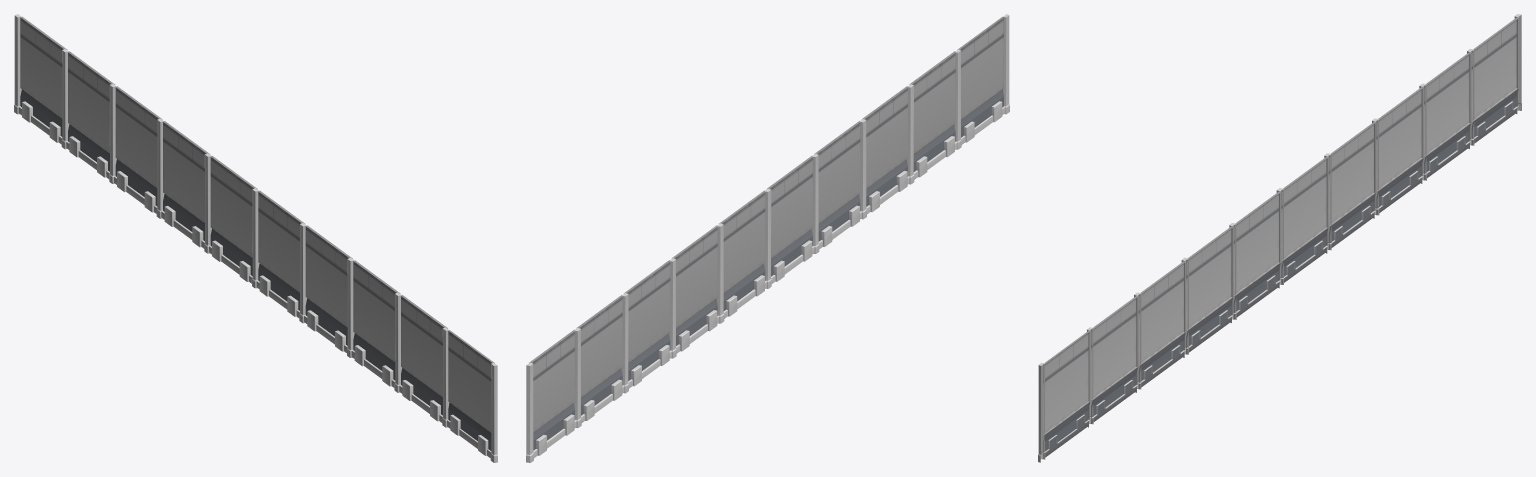
File: Pfb_JALB_WallPart2_Line__10.fbx
3 renders of one model, left to right at view 1: azimuth 30°, elevation 25°; view 2: azimuth 150°, elevation 25°; view 3: azimuth 330°, elevation 25°, orthographic.
Visible parts, largest first — view 1: MAT_JLABWall; view 2: MAT_JLABWall; view 3: MAT_JLABWall.
Boxes of the visible parts, x1=… form: MAT_JLABWall: x1=14, y1=14, x2=497, y2=462; MAT_JLABWall: x1=526, y1=14, x2=1009, y2=462; MAT_JLABWall: x1=1038, y1=14, x2=1521, y2=462.
Bounding box in the file's own units: 0.2509 × 4.04 × 36.4.
1 material, 1 textured.
